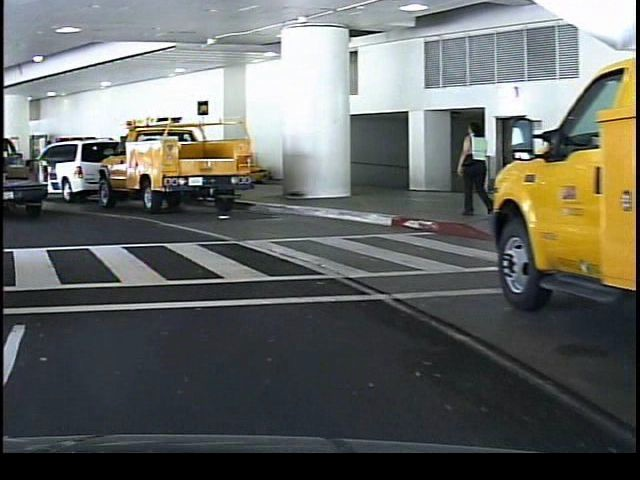person: (450, 116, 488, 219)
